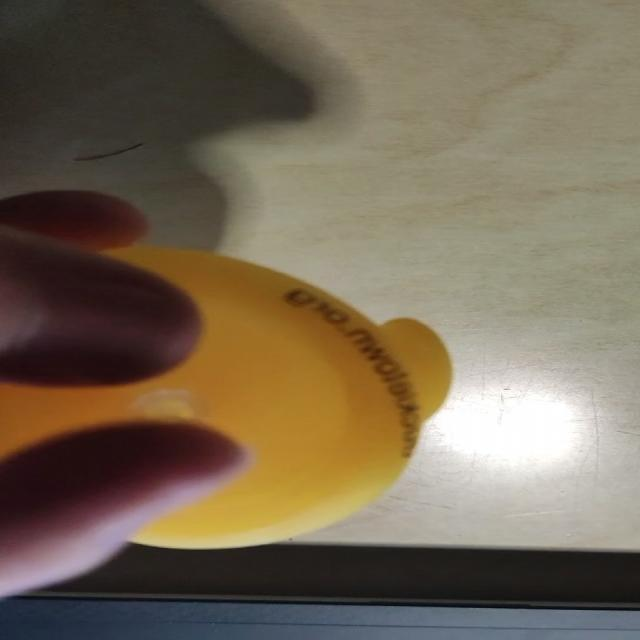rubber-duck: (0, 245, 450, 546)
